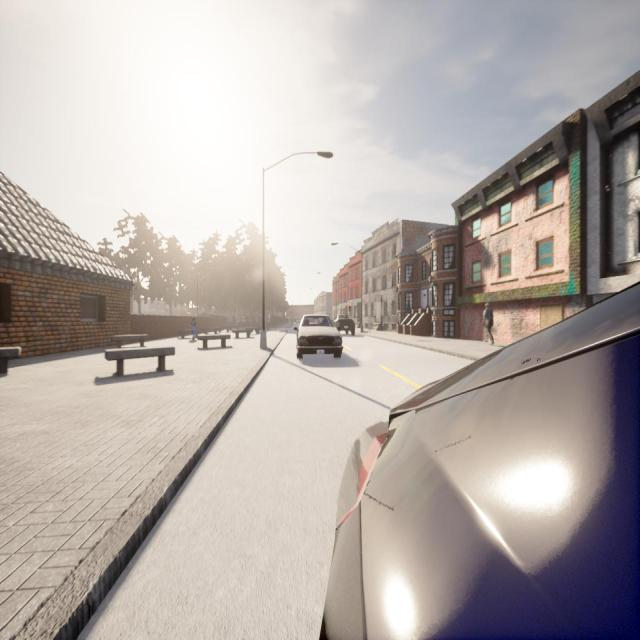Pedestrian: (482, 303, 494, 344), (190, 317, 196, 342)
Vehicle: (321, 282, 640, 640), (294, 314, 344, 360), (335, 315, 355, 336)
traffic_light: (348, 303, 351, 311)
